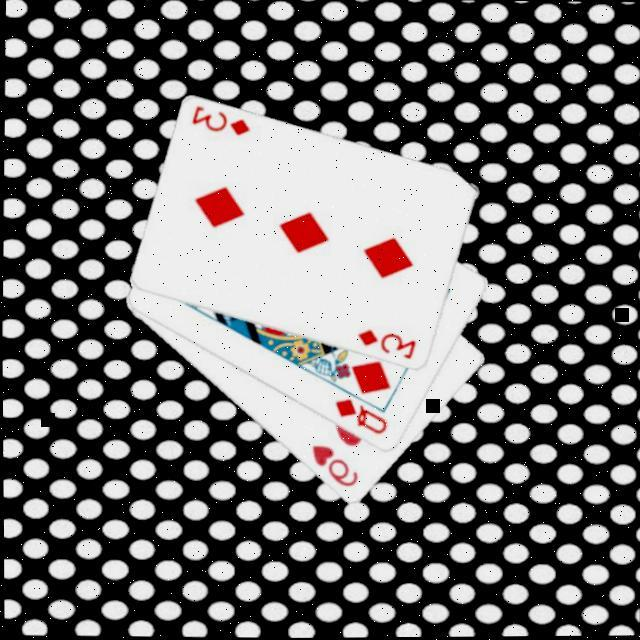3D: (352, 324, 418, 362), (186, 100, 252, 137)
6H: (305, 439, 360, 488)
QD: (329, 394, 388, 436)
